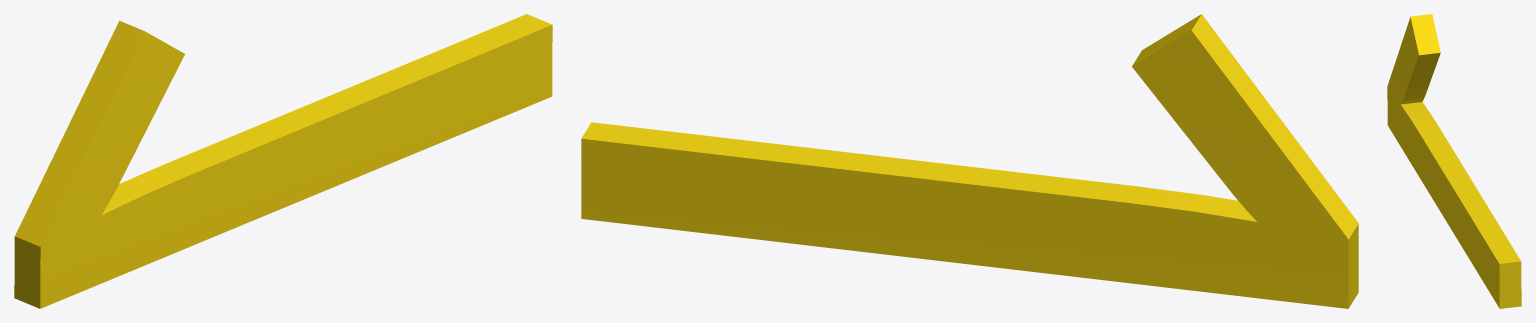
The model's file is Number_1.gltf.
3 views of the same model, side by side, from view 1: azimuth 30°, elevation 25°; view 2: azimuth 150°, elevation 25°; view 3: azimuth 270°, elevation 25° (orthographic). The views are drawn at different scales.
Parts seen in each view (by area): view 1: Sub_4_Cell_3_2_Number_1; view 2: Sub_4_Cell_3_2_Number_1; view 3: Sub_4_Cell_3_2_Number_1.
Part boxes in pixels (x1,y1,x2,y2): Sub_4_Cell_3_2_Number_1: (14,14,552,308); Sub_4_Cell_3_2_Number_1: (581,14,1358,308); Sub_4_Cell_3_2_Number_1: (1387,14,1521,308).
Bounding box in the file's own units: 0.0247 × 0.00907 × 0.00754.
